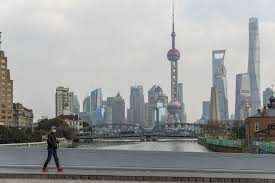mask: (48, 123, 57, 133)
